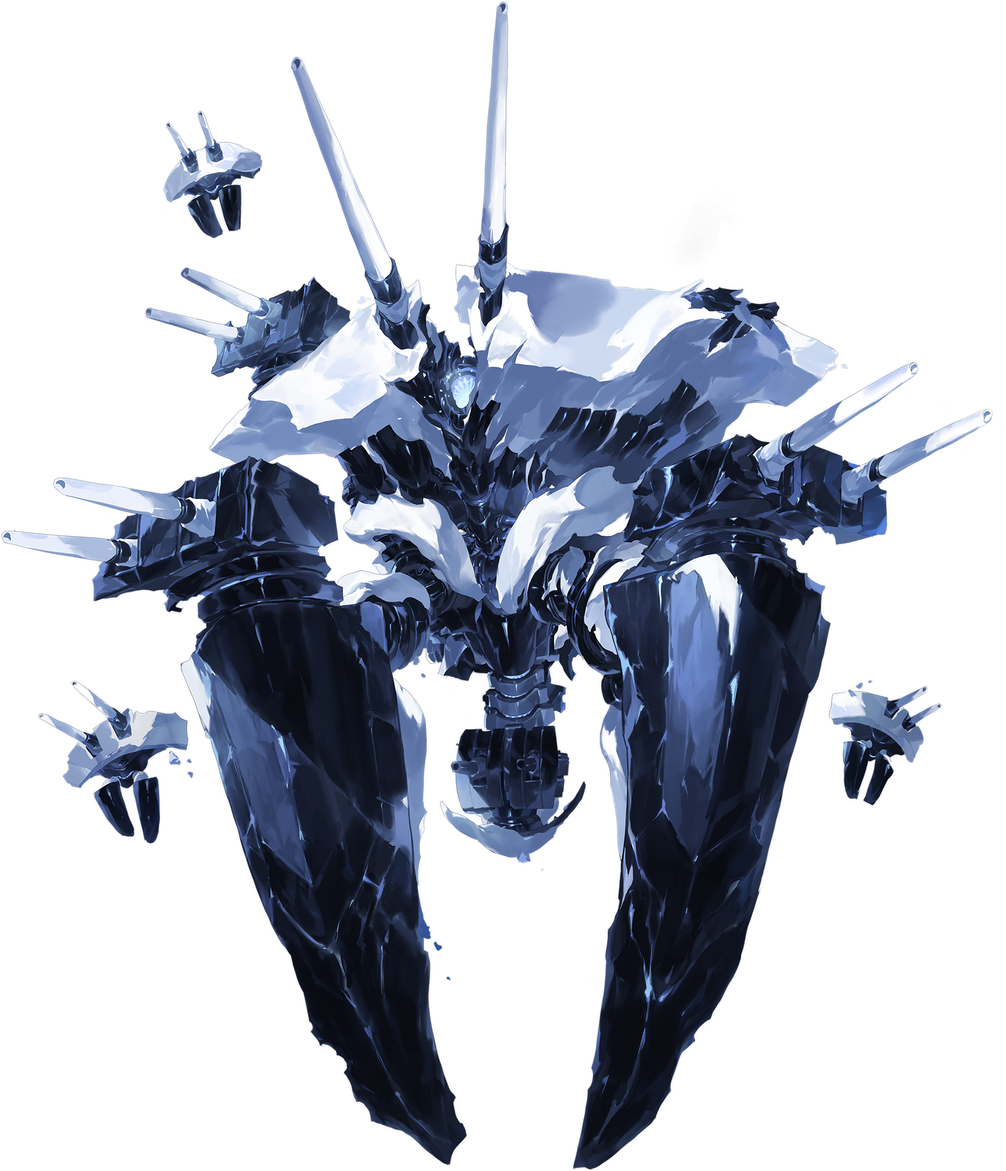person: (1, 1, 993, 1169)
